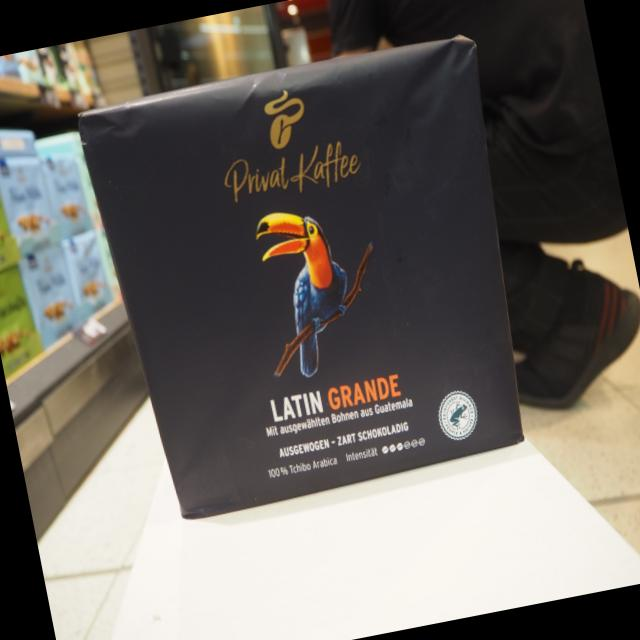LG Gemahlen: (68, 25, 529, 525)
